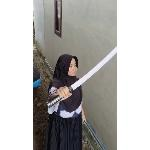Pedang: (44, 44, 118, 110)
